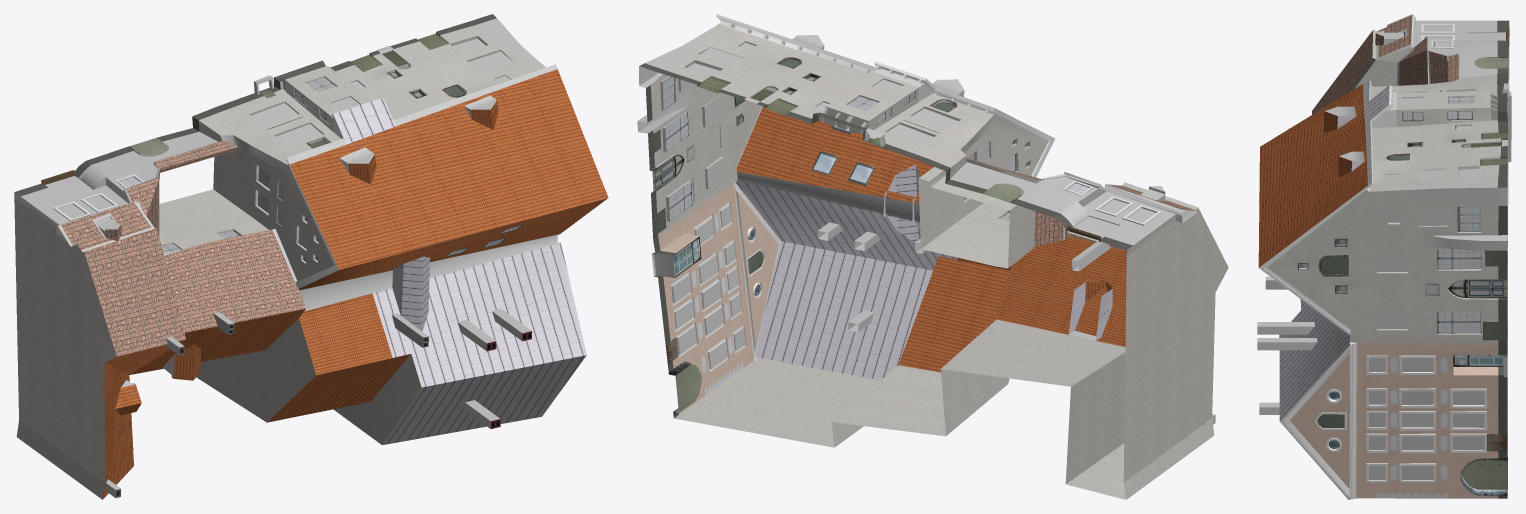
The model's file is Pikk_69.obj.
3 views of the same model, side by side, from view 1: azimuth 30°, elevation 25°; view 2: azimuth 150°, elevation 25°; view 3: azimuth 270°, elevation 25° (orthographic). The views are drawn at different scales.
Parts seen in each view (by area): view 1: Pikk_69; view 2: Pikk_69; view 3: Pikk_69.
Part boxes in pixels (<box>): Pikk_69: <box>14,14,608,499</box>; Pikk_69: <box>637,14,1228,499</box>; Pikk_69: <box>1257,14,1511,499</box>.
Size of the model in its own units: 39.85 by 26.5 by 18.5.
